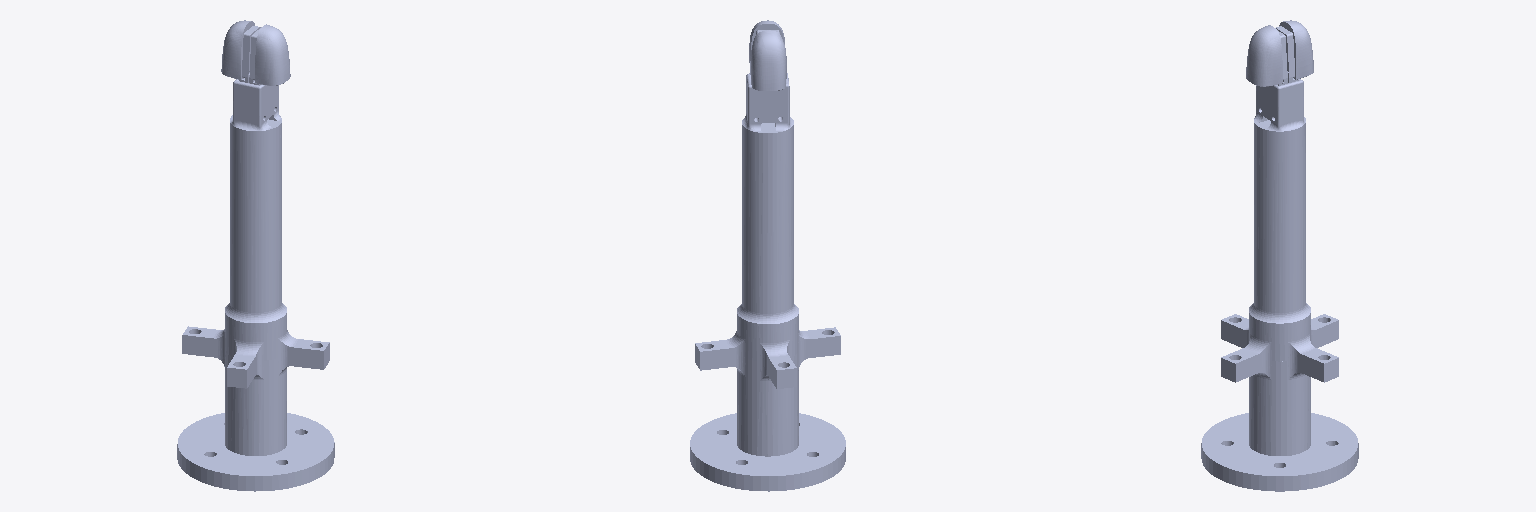
robot.urdf — Sensor_holer_nc:
<?xml version="1.0" encoding="utf-8"?>
<!-- This URDF was automatically created by SolidWorks to URDF Exporter! Originally created by Stephen Brawner (brawner@gmail.com) 
     Commit Version: 1.6.0-4-g7f85cfe  Build Version: 1.6.7995.38578
     For more information, please see http://wiki.ros.org/sw_urdf_exporter -->
<robot
  name="Sensor_holer_nc">
  <link
    name="sensor_base">
    <inertial>
      <origin
        xyz="-2.6315E-07 -1.7193E-07 0.066767"
        rpy="0 0 0" />
      <mass
        value="0.14412" />
      <inertia
        ixx="0.00015659"
        ixy="-3.3629E-08"
        ixz="2.4341E-09"
        iyy="0.00015662"
        iyz="1.5903E-09"
        izz="3.8483E-05" />
    </inertial>
    <visual>
      <origin
        xyz="0 0 0"
        rpy="0 0 0" />
      <geometry>
        <mesh
          filename="package://tactile_raw_point_publisher/meshes/sensor_base.STL" />
      </geometry>
      <material
        name="">
        <color
          rgba="0.79216 0.81961 0.93333 1" />
      </material>
    </visual>
    <collision>
      <origin
        xyz="0 0 0"
        rpy="0 0 0" />
      <geometry>
        <mesh
          filename="package://tactile_raw_point_publisher/meshes/sensor_base.STL" />
      </geometry>
    </collision>
  </link>
  <link
    name="sensor_3_link">
    <inertial>
      <origin
        xyz="8.2511E-06 0.0073777 0.0036856"
        rpy="0 0 0" />
      <mass
        value="0.0062307" />
      <inertia
        ixx="5.2926E-07"
        ixy="1.978E-10"
        ixz="-4.3818E-12"
        iyy="1.8192E-07"
        iyz="1.3607E-08"
        izz="5.9373E-07" />
    </inertial>
    <visual>
      <origin
        xyz="0 0 0"
        rpy="0 0 0" />
      <geometry>
        <mesh
          filename="package://tactile_raw_point_publisher/meshes/sensor_3_link.STL" />
      </geometry>
      <material
        name="">
        <color
          rgba="0.79216 0.81961 0.93333 1" />
      </material>
    </visual>
    <collision>
      <origin
        xyz="0 0 0"
        rpy="0 0 0" />
      <geometry>
        <mesh
          filename="package://tactile_raw_point_publisher/meshes/sensor_3_link.STL" />
      </geometry>
    </collision>
  </link>
  <joint
    name="sensor_3_link_joint"
    type="fixed">
    <origin
      xyz="0.0020191 -0.0032797 0.20148"
      rpy="1.5193 0 0.57871" />
    <parent
      link="sensor_base" />
    <child
      link="sensor_3_link" />
    <axis
      xyz="0 0 0" />
  </joint>
  <link
    name="sensor_1_link">
    <inertial>
      <origin
        xyz="8.2514E-06 0.0073777 0.0036856"
        rpy="0 0 0" />
      <mass
        value="0.0062307" />
      <inertia
        ixx="5.2926E-07"
        ixy="1.9778E-10"
        ixz="-4.388E-12"
        iyy="1.8192E-07"
        iyz="1.3607E-08"
        izz="5.9373E-07" />
    </inertial>
    <visual>
      <origin
        xyz="0 0 0"
        rpy="0 0 0" />
      <geometry>
        <mesh
          filename="package://tactile_raw_point_publisher/meshes/sensor_1_link.STL" />
      </geometry>
      <material
        name="">
        <color
          rgba="0.79216 0.81961 0.93333 1" />
      </material>
    </visual>
    <collision>
      <origin
        xyz="0 0 0"
        rpy="0 0 0" />
      <geometry>
        <mesh
          filename="package://tactile_raw_point_publisher/meshes/sensor_1_link.STL" />
      </geometry>
    </collision>
  </link>
  <joint
    name="sensor_1_link_joint"
    type="fixed">
    <origin
      xyz="-0.0020191 0.0032797 0.20148"
      rpy="1.5193 0 -2.5629" />
    <parent
      link="sensor_base" />
    <child
      link="sensor_1_link" />
    <axis
      xyz="0 0 0" />
  </joint>
</robot>

--- Render facts (derived) ---
The picture shows the robot from 3 angles, left to right: view 1: azimuth 30°, elevation 25°; view 2: azimuth 150°, elevation 25°; view 3: azimuth 270°, elevation 25°; orthographic projection.
Model Sensor_holer_nc with 3 links and 2 joints (2 fixed), rooted at sensor_base, posed every joint at zero.
Visible links, largest first — view 1: sensor_base, sensor_3_link, sensor_1_link; view 2: sensor_base, sensor_1_link; view 3: sensor_base, sensor_3_link, sensor_1_link.
Link boxes in pixels (left/top/right/bottom): sensor_base: left=177, top=79, right=334, bottom=491; sensor_3_link: left=249, top=24, right=290, bottom=85; sensor_1_link: left=221, top=20, right=260, bottom=82; sensor_base: left=690, top=73, right=845, bottom=491; sensor_1_link: left=751, top=30, right=786, bottom=119; sensor_base: left=1201, top=79, right=1358, bottom=491; sensor_3_link: left=1246, top=25, right=1287, bottom=86; sensor_1_link: left=1276, top=20, right=1313, bottom=82.
Size in the robot's own frame: 0.0749 by 0.075 by 0.2285 metres.
3 mesh visuals loaded from 3 distinct referenced files (3 binary STL).
